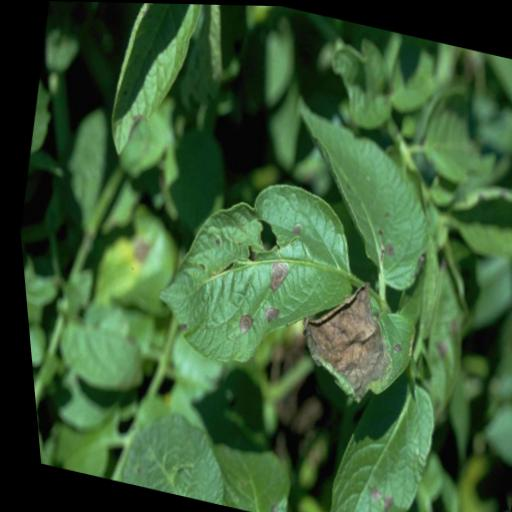Late Blight: (130, 153, 374, 395), (276, 262, 424, 424)
